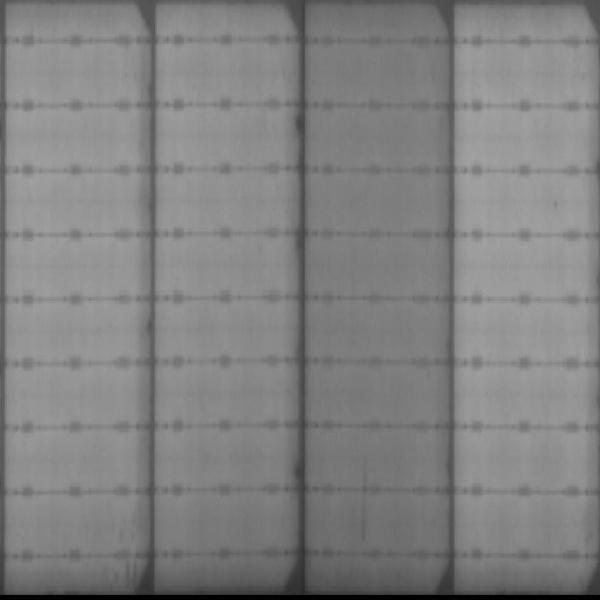scratch: (354, 452, 368, 544)
